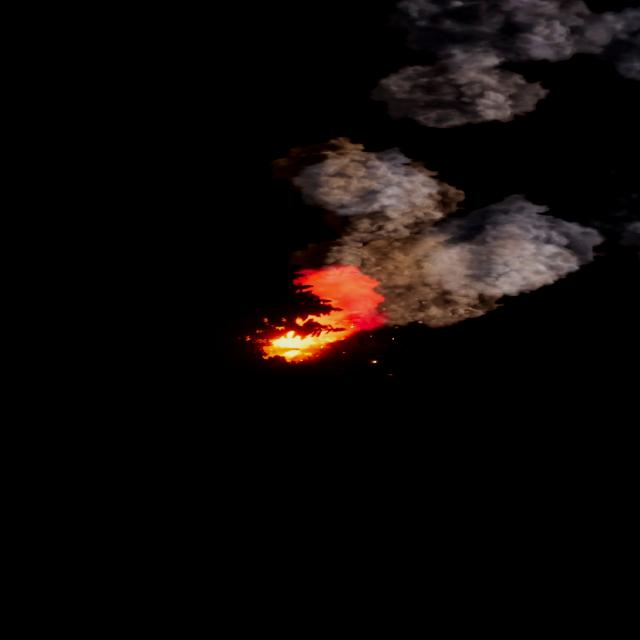fire: (252, 263, 394, 363)
smoke: (265, 138, 593, 324), (360, 0, 640, 128)
